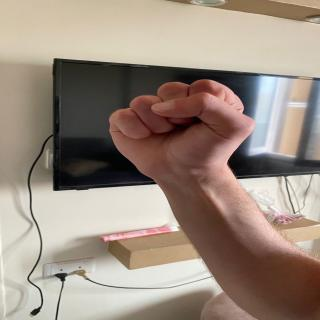SAD: (82, 71, 265, 179)
